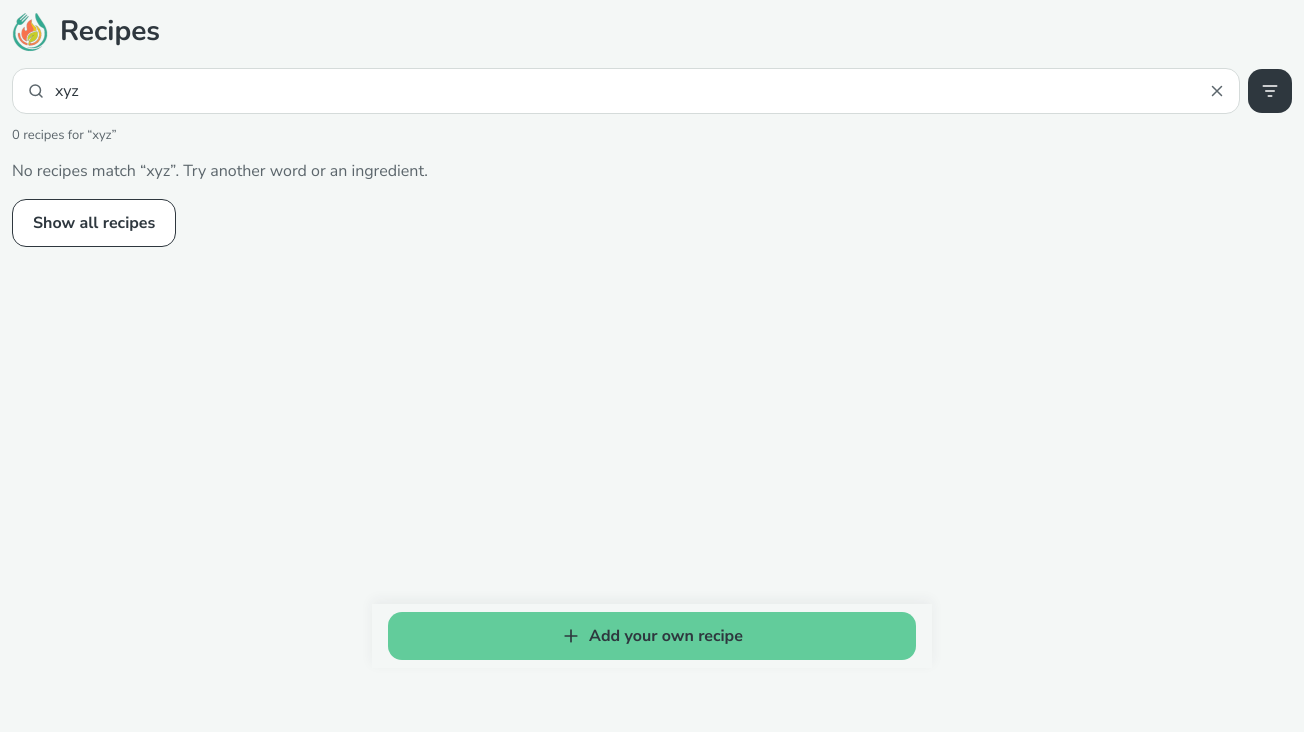
RecipesPage search › explains when nothing matches and clears the search in one tap
Expected: the text "No recipes match “xyz”. Try another word or an ingredient." is shown, [12,160,428,182]
Click the button "Show all recipes" at [94, 223], box [12,199,176,247]
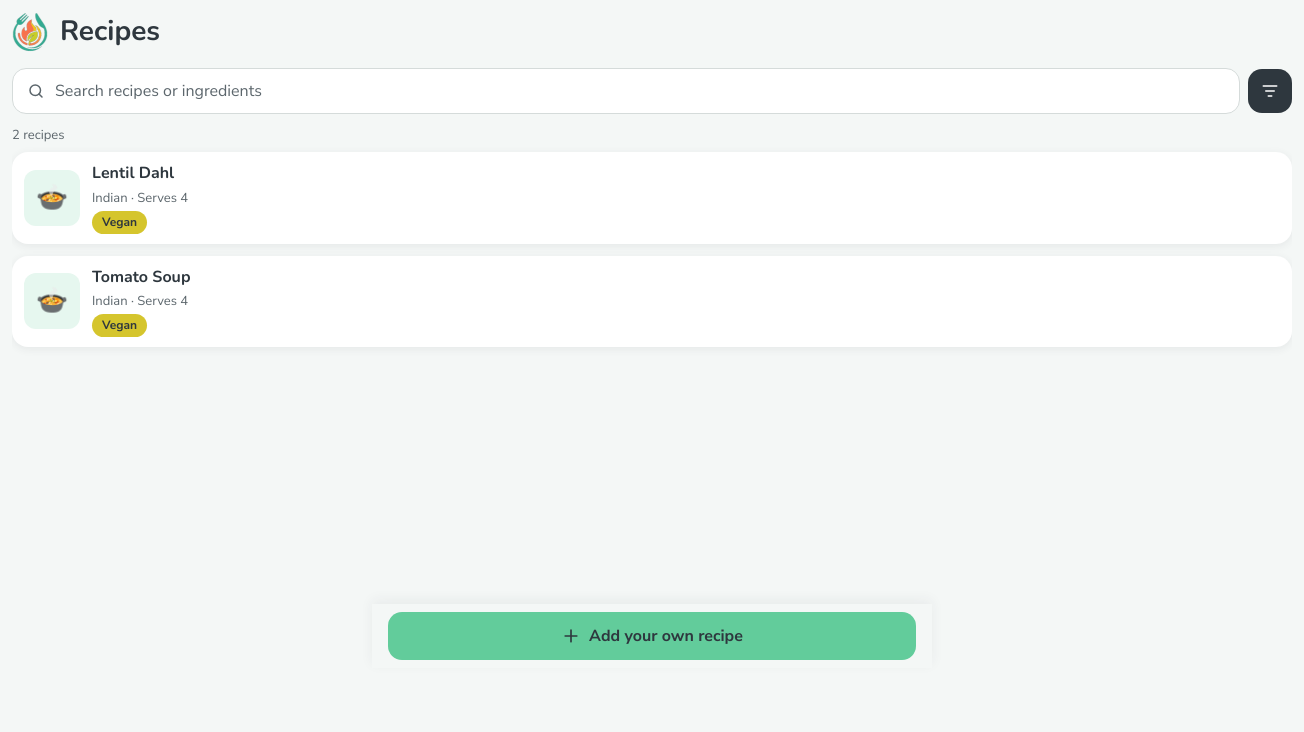
Expected: the search field labelled "Search recipes" is empty, [13,69,1239,113]
Expected: the text "Tomato Soup" is shown, [92,266,190,288]
